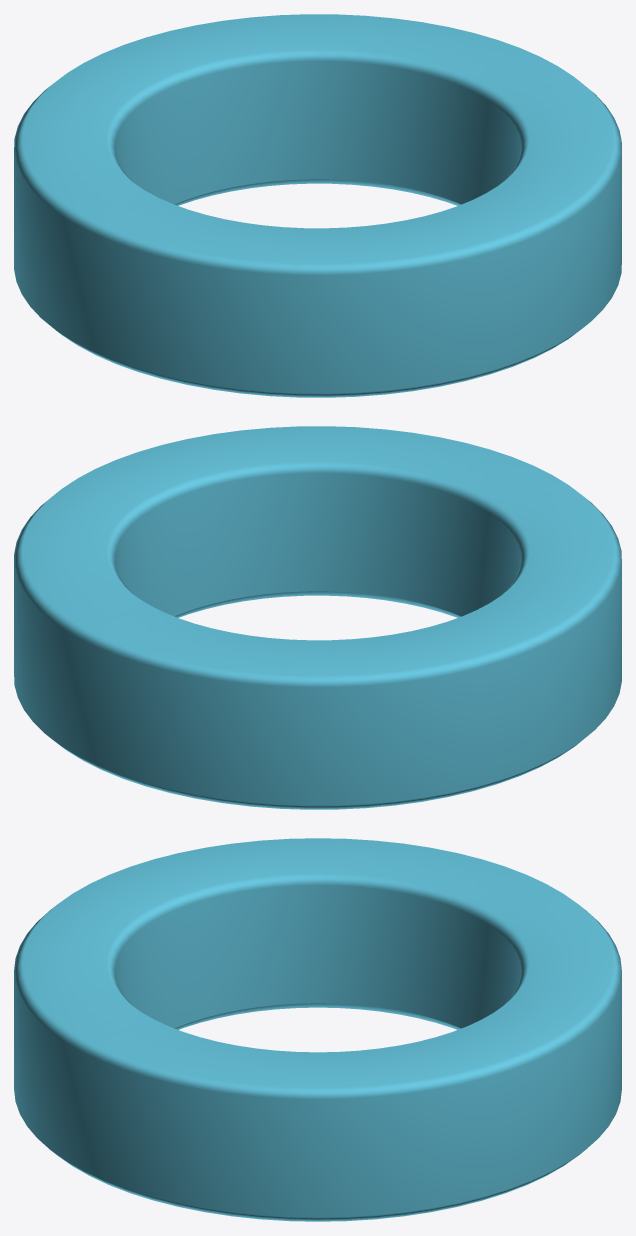
3 views of the same model, one above another, from view 1: azimuth 30°, elevation 25°; view 2: azimuth 150°, elevation 25°; view 3: azimuth 270°, elevation 25° (orthographic).
Parts seen in each view (by area): view 1: seal_body; view 2: seal_body; view 3: seal_body.
Boxes of the visible parts, bbox=[...] form: seal_body: bbox=[14, 14, 621, 397]; seal_body: bbox=[14, 426, 621, 809]; seal_body: bbox=[14, 838, 621, 1221].
Bounding box in the file's own units: 0.03 × 0.0073 × 0.03.
